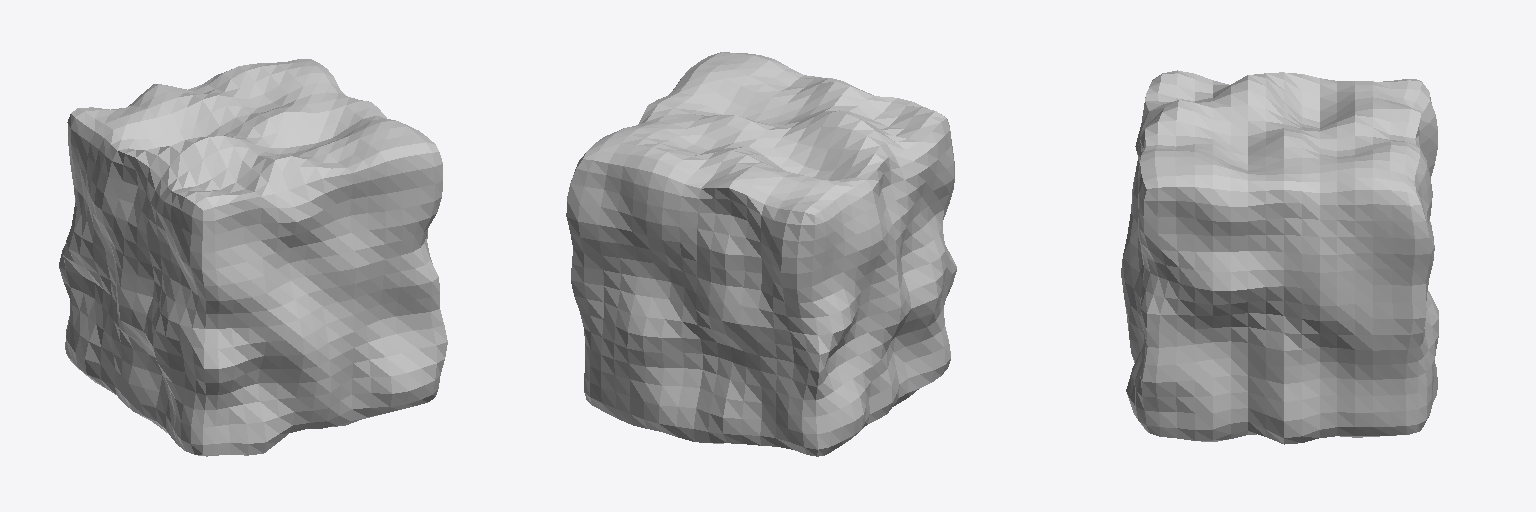
File: lavaBlock.obj
The picture shows the model from 3 angles: view 1: azimuth 30°, elevation 25°; view 2: azimuth 150°, elevation 25°; view 3: azimuth 270°, elevation 25°; orthographic projection.
Visible parts, largest first — view 1: Cube; view 2: Cube; view 3: Cube.
Boxes of the visible parts, x1=… form: Cube: x1=59, y1=59, x2=447, y2=456; Cube: x1=566, y1=52, x2=956, y2=456; Cube: x1=1121, y1=70, x2=1438, y2=444.
Size of the model in its own units: 2.21 by 2.26 by 2.23.